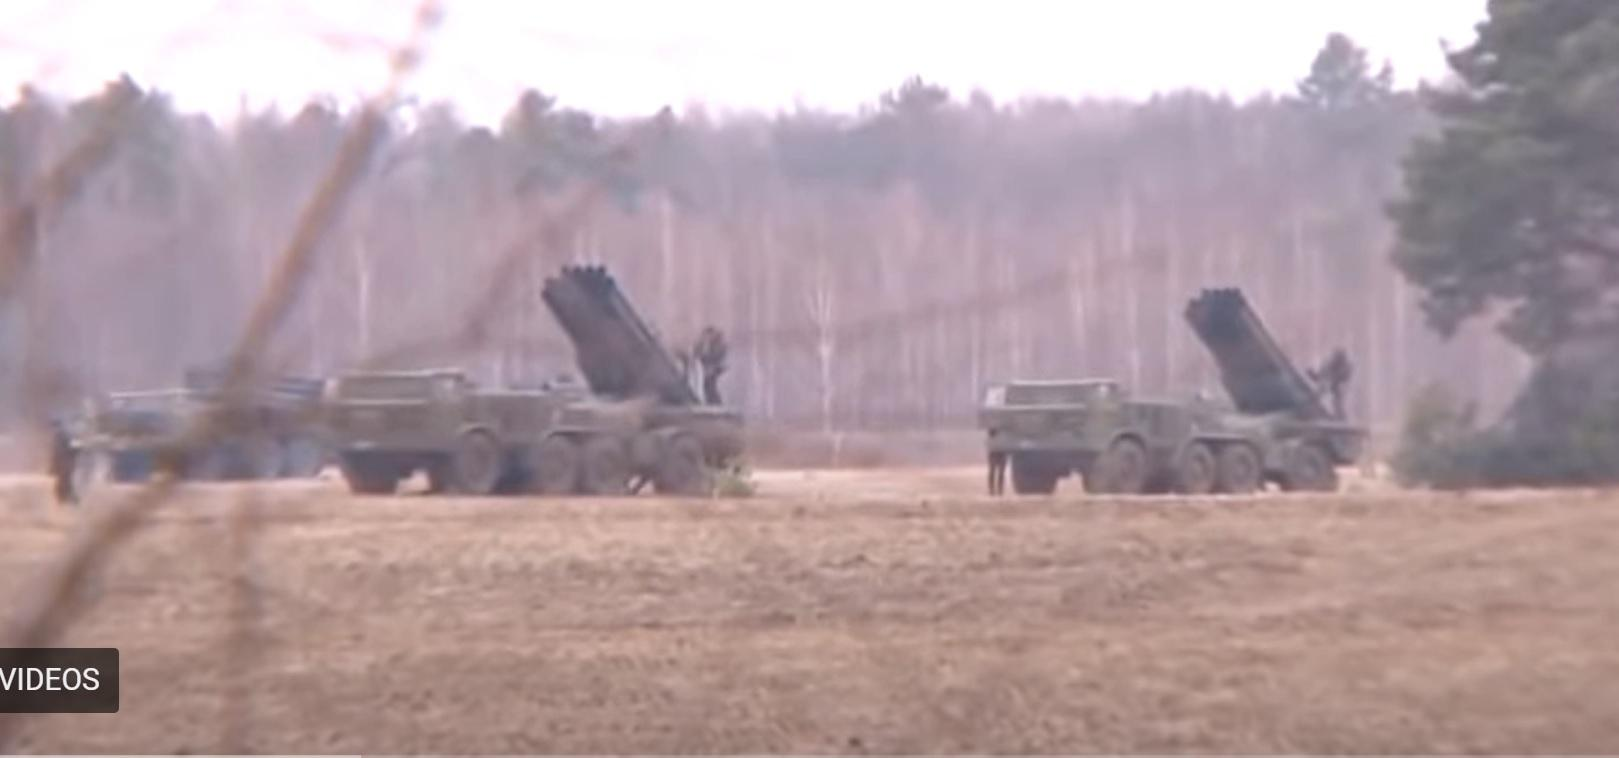MIL_SAM_TEL: (320, 257, 756, 508), (966, 274, 1367, 504)
